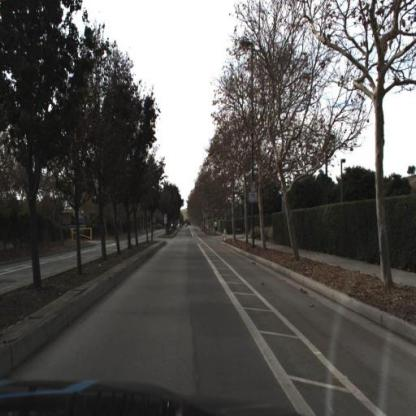pedestrian: (212, 219, 220, 236)
